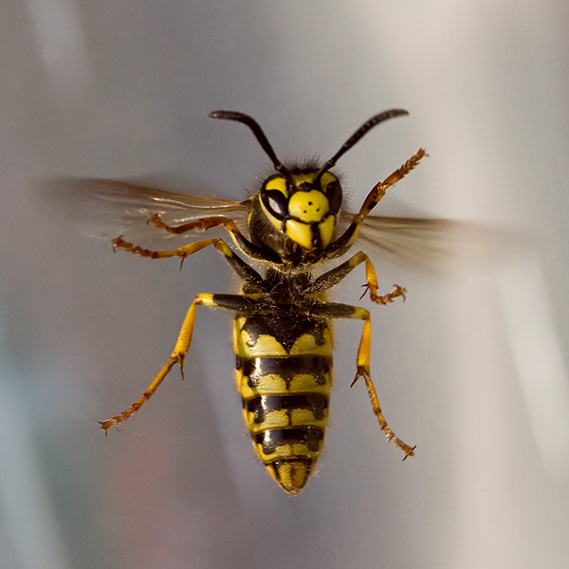chax: (25, 88, 544, 510)
